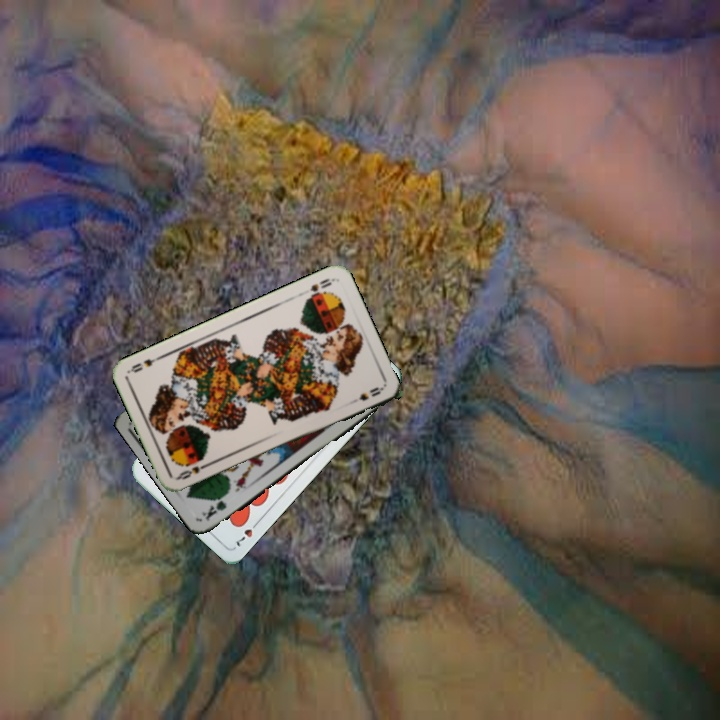GK: (197, 489, 231, 524)
H7: (232, 516, 262, 550)
SO: (173, 459, 212, 482), (306, 274, 336, 299)
